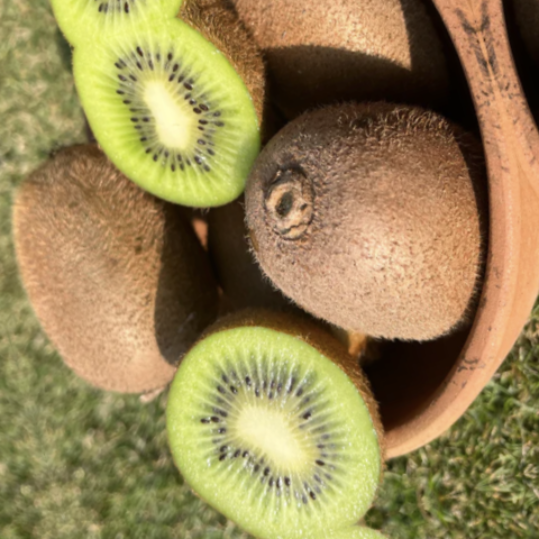kiwi: (175, 49, 539, 404), (0, 108, 255, 445)
